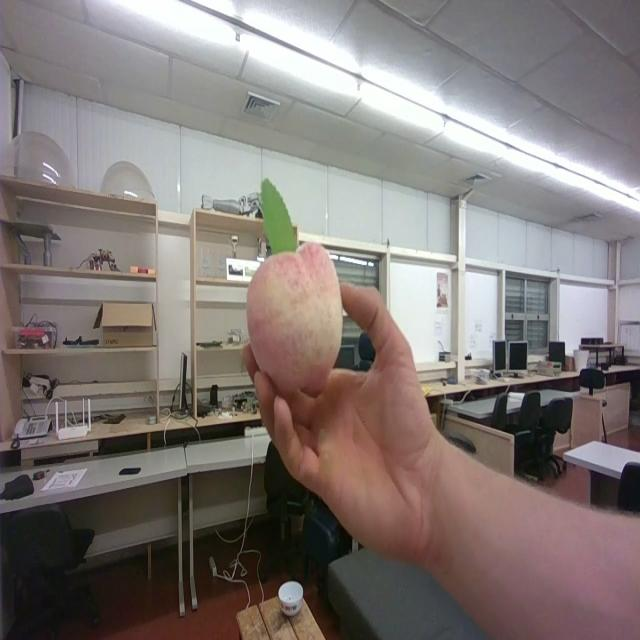peach: (248, 176, 342, 396)
